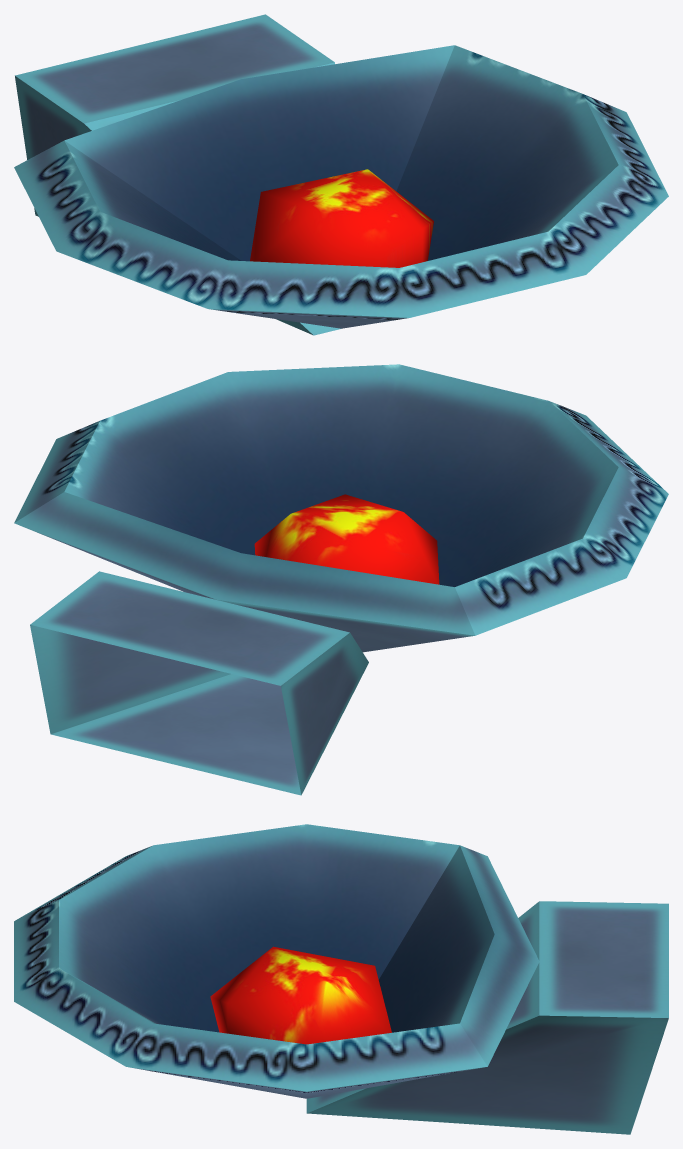
Rendered from torch2.FBX.
3 views of the same model, one above another, from view 1: azimuth 30°, elevation 25°; view 2: azimuth 150°, elevation 25°; view 3: azimuth 270°, elevation 25° (orthographic). The views are drawn at different scales.
Parts seen in each view (by area): view 1: torch2; view 2: torch2; view 3: torch2.
Part boxes in pixels (x1=…): torch2: x1=14, y1=14, x2=668, y2=335; torch2: x1=14, y1=364, x2=668, y2=795; torch2: x1=14, y1=824, x2=668, y2=1134.
Bounding box in the file's own units: 1.77 × 1.89 × 0.5233.
